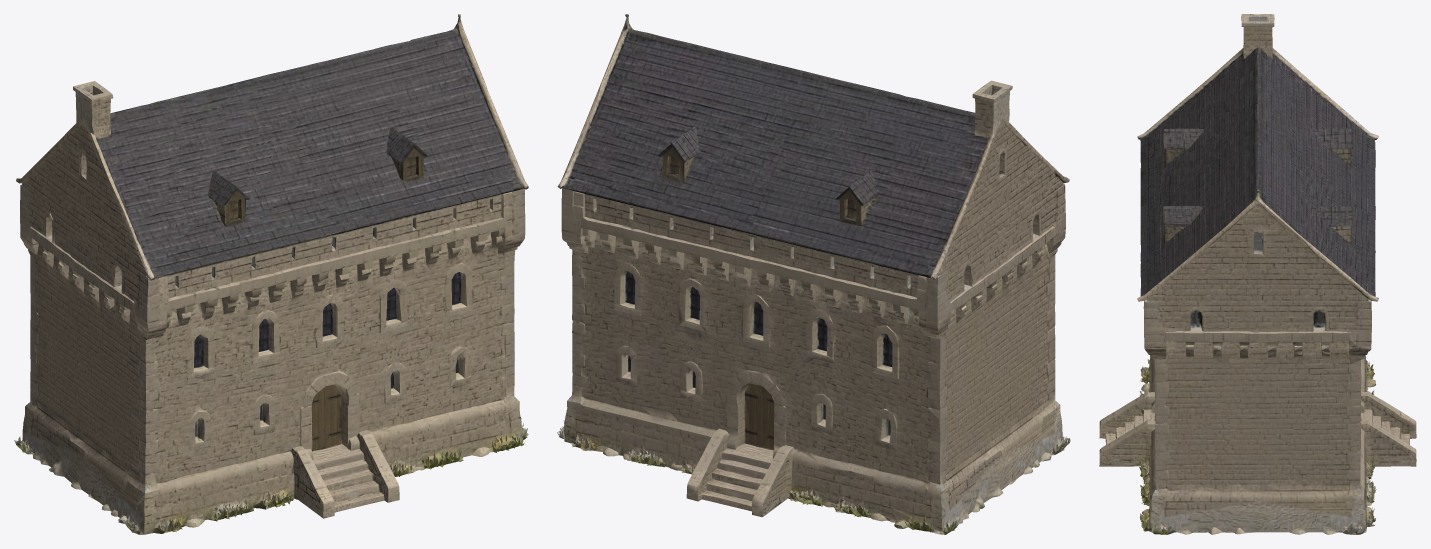
File: keep_stonehall.glb
3 renders of one model, left to right at view 1: azimuth 30°, elevation 25°; view 2: azimuth 150°, elevation 25°; view 3: azimuth 270°, elevation 25°, orthographic. The views are drawn at different scales.
Visible parts, largest first — view 1: keep_stonehall; view 2: keep_stonehall; view 3: keep_stonehall.
Boxes of the visible parts, box(x1,y1,x2,y2) form: keep_stonehall: box(14, 14, 528, 534); keep_stonehall: box(557, 14, 1070, 534); keep_stonehall: box(1099, 14, 1416, 534).
Bounding box in the file's own units: 1.9 × 1.82 × 1.48.
Materials: 1 (1 with a texture image).
